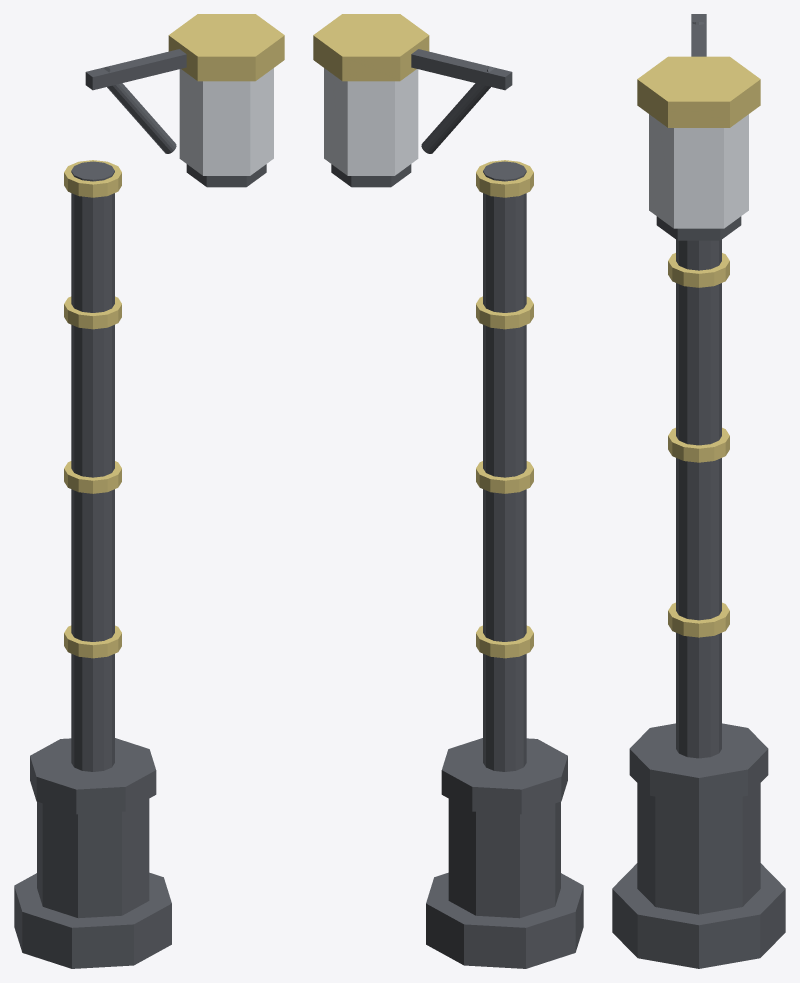
File: prop_coastal_streetlamp.glb
3 renders of one model, left to right at view 1: azimuth 30°, elevation 25°; view 2: azimuth 150°, elevation 25°; view 3: azimuth 270°, elevation 25°, orthographic. The views are drawn at different scales.
Visible parts, largest first — view 1: Lamp_Pole, Pedestal_Plinth, Pedestal_Foot, Lantern_Glass_Cage, Pedestal_Cap, Lantern_Cap, Arm_Horizontal, Arm_Support_Scroll, Collar_Ring.003, Collar_Ring.001, Collar_Ring, Collar_Ring.002 (+1 smaller); view 2: Lamp_Pole, Pedestal_Plinth, Pedestal_Foot, Lantern_Glass_Cage, Pedestal_Cap, Lantern_Cap, Arm_Horizontal, Arm_Support_Scroll, Collar_Ring.003, Collar_Ring.001, Collar_Ring, Collar_Ring.002 (+1 smaller); view 3: Lamp_Pole, Pedestal_Plinth, Pedestal_Foot, Lantern_Glass_Cage, Pedestal_Cap, Lantern_Cap, Collar_Ring.001, Collar_Ring, Collar_Ring.002, Lantern_Base, Arm_Horizontal.
Boxes of the visible parts, x1,y1,x2,y2 form: Lamp_Pole: [71, 161, 114, 771]; Pedestal_Plinth: [37, 799, 149, 918]; Pedestal_Foot: [14, 872, 171, 968]; Lantern_Glass_Cage: [179, 68, 273, 175]; Pedestal_Cap: [30, 738, 156, 814]; Lantern_Cap: [168, 14, 284, 81]; Arm_Horizontal: [85, 49, 186, 90]; Arm_Support_Scroll: [103, 67, 176, 153]; Collar_Ring.003: [64, 160, 121, 197]; Collar_Ring.001: [64, 461, 121, 493]; Collar_Ring: [64, 625, 121, 658]; Collar_Ring.002: [64, 296, 121, 329]; Lamp_Pole: [483, 161, 526, 771]; Pedestal_Plinth: [448, 799, 560, 918]; Pedestal_Foot: [426, 872, 583, 968]; Lantern_Glass_Cage: [324, 68, 418, 175]; Pedestal_Cap: [441, 738, 567, 814]; Lantern_Cap: [313, 14, 429, 81]; Arm_Horizontal: [411, 49, 512, 90]; Arm_Support_Scroll: [421, 67, 494, 153]; Collar_Ring.003: [476, 160, 533, 197]; Collar_Ring.001: [476, 461, 533, 493]; Collar_Ring: [476, 625, 533, 658]; Collar_Ring.002: [476, 296, 533, 329]; Lamp_Pole: [676, 240, 721, 758]; Pedestal_Plinth: [637, 783, 760, 914]; Pedestal_Foot: [612, 863, 785, 968]; Lantern_Glass_Cage: [649, 114, 748, 228]; Pedestal_Cap: [629, 723, 768, 804]; Lantern_Cap: [637, 56, 760, 127]; Collar_Ring.001: [668, 427, 729, 462]; Collar_Ring: [668, 602, 729, 637]; Collar_Ring.002: [668, 253, 729, 287]; Lantern_Base: [656, 216, 741, 240]; Arm_Horizontal: [691, 14, 706, 56].
Size of the model in its own units: 1.58 by 5.27 by 0.9.
